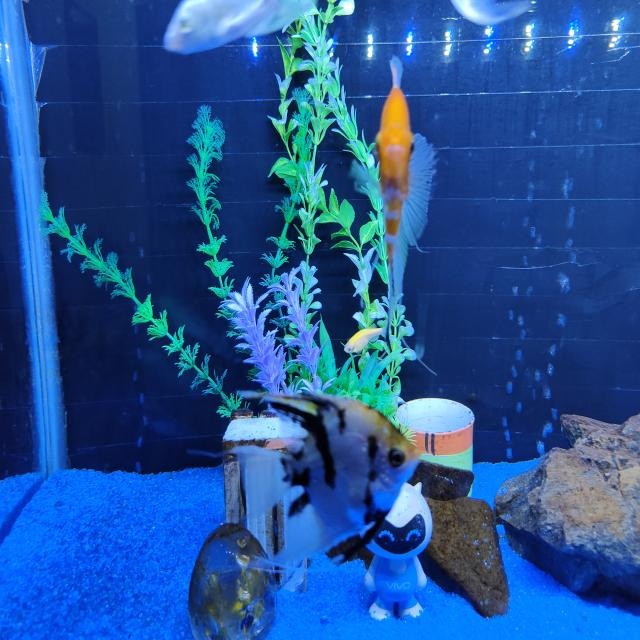Fish: (233, 393, 419, 563), (376, 57, 435, 339), (164, 0, 315, 53), (451, 0, 531, 25), (344, 327, 383, 353)
